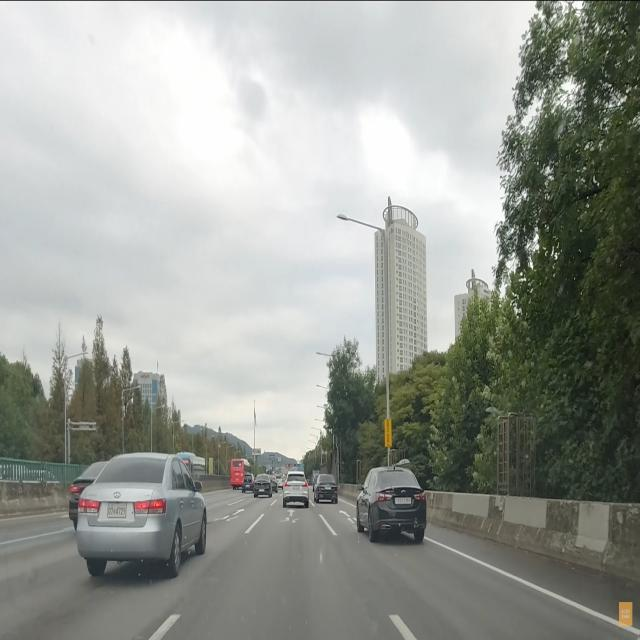forward: (259, 506, 324, 518)
